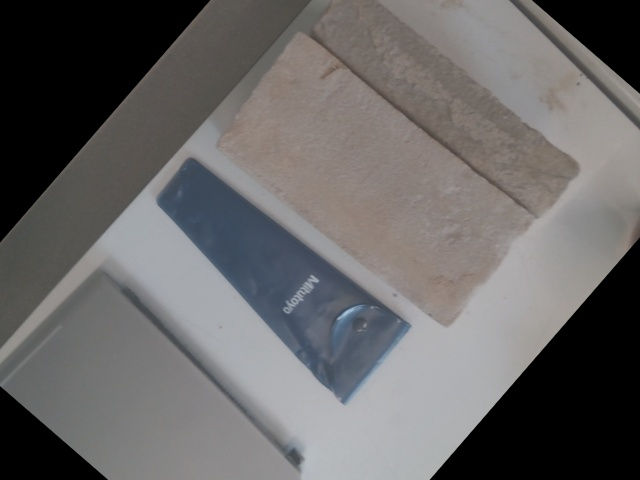brick: (218, 42, 526, 322)
